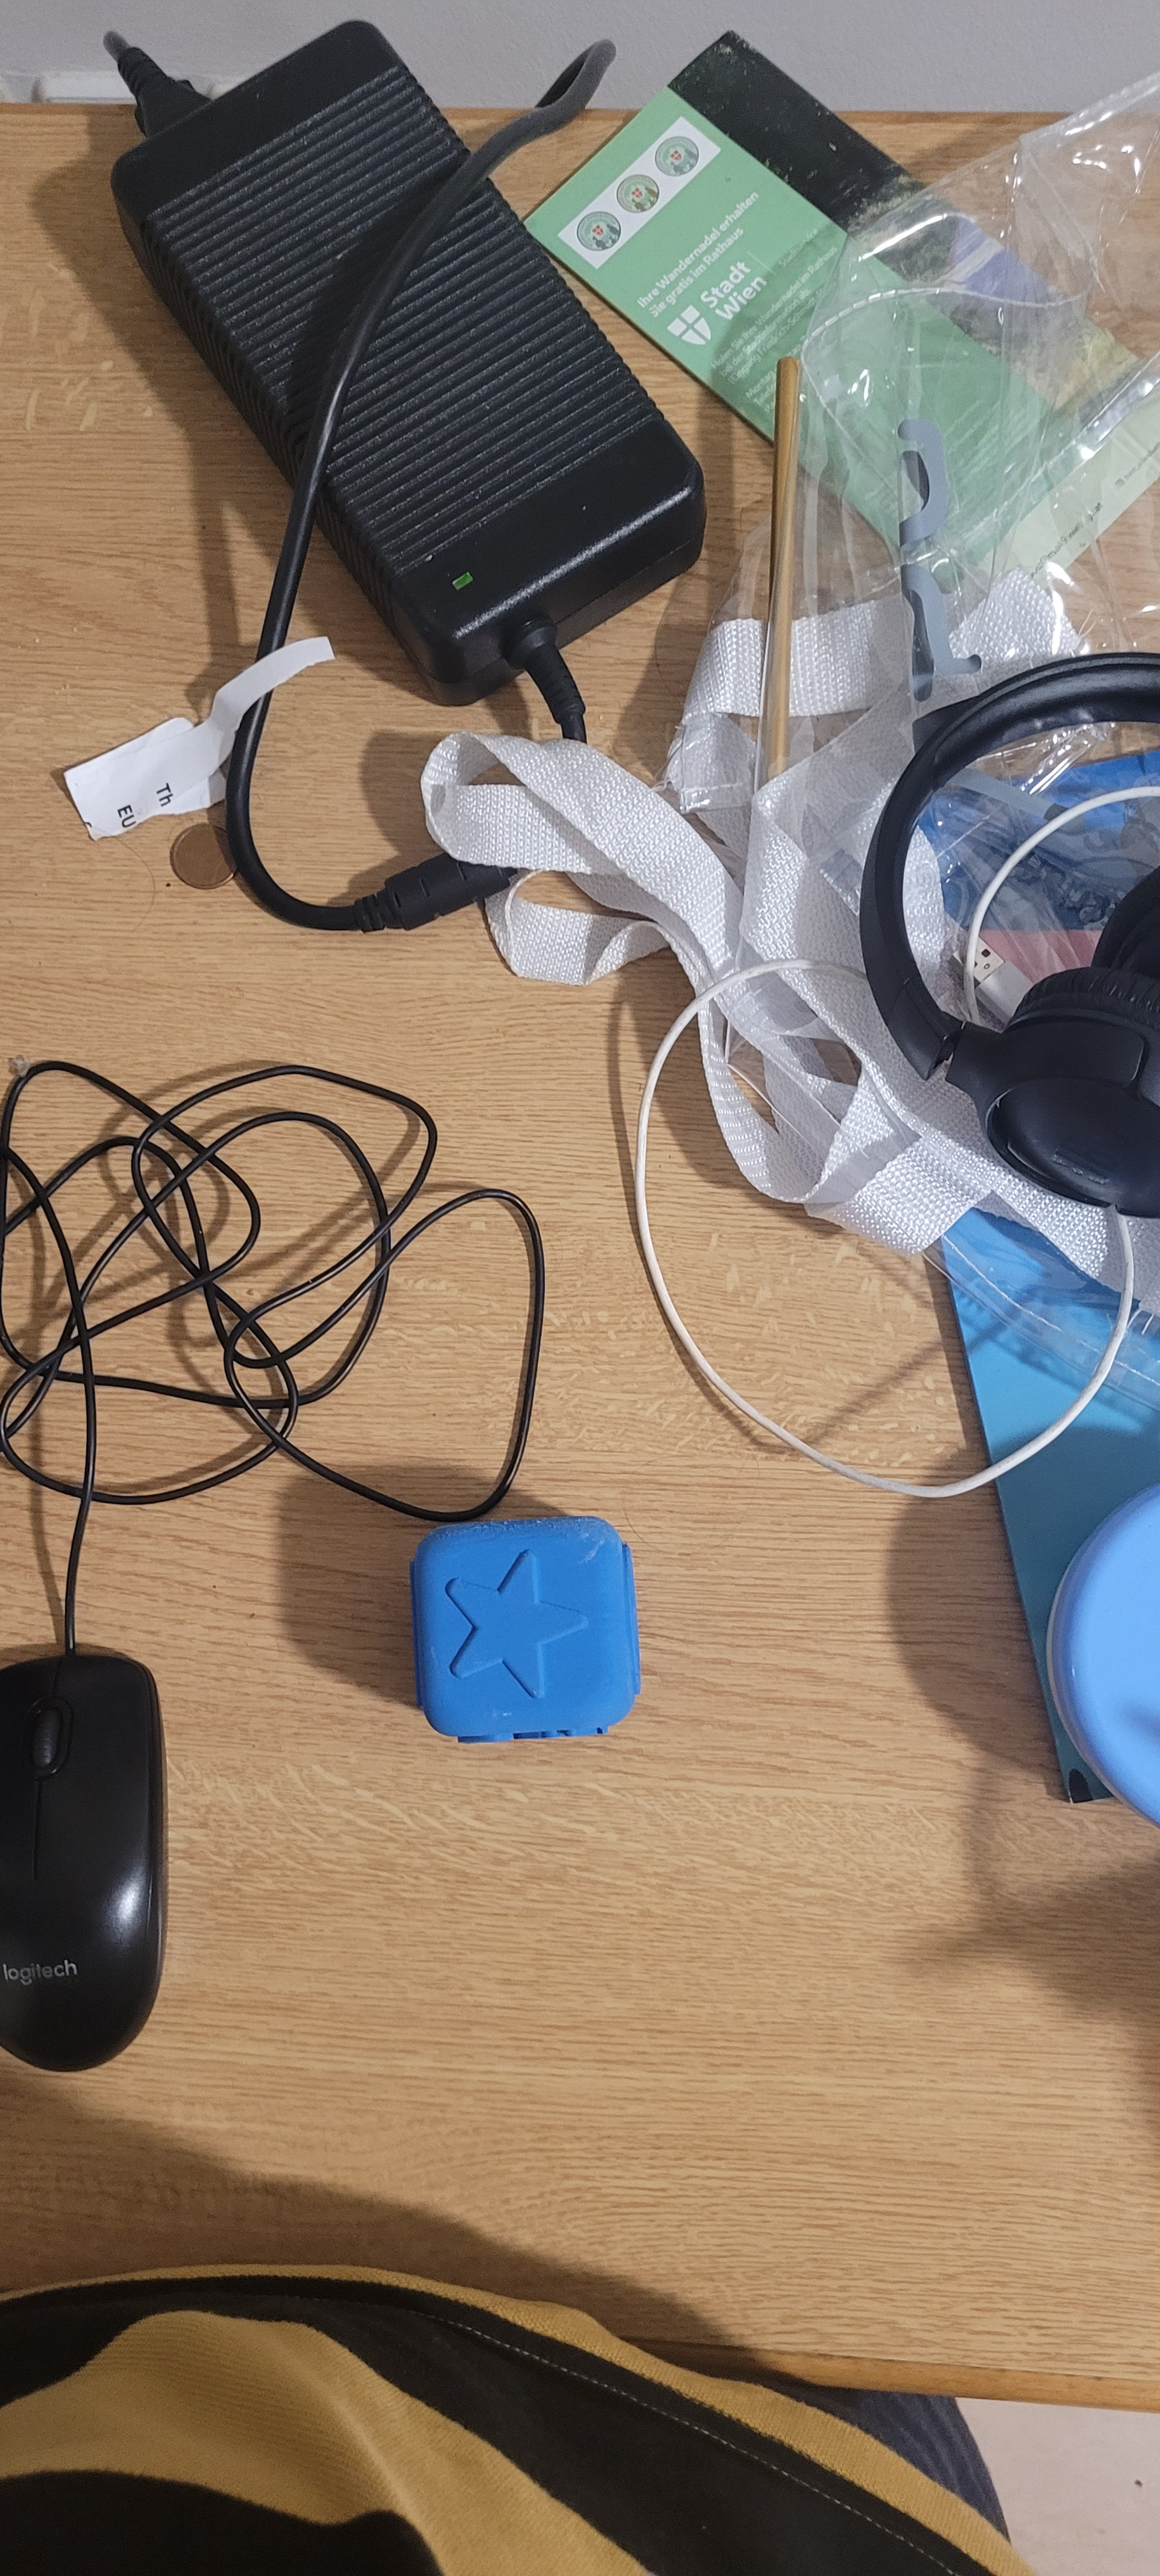Star: (426, 1546, 619, 1725)
